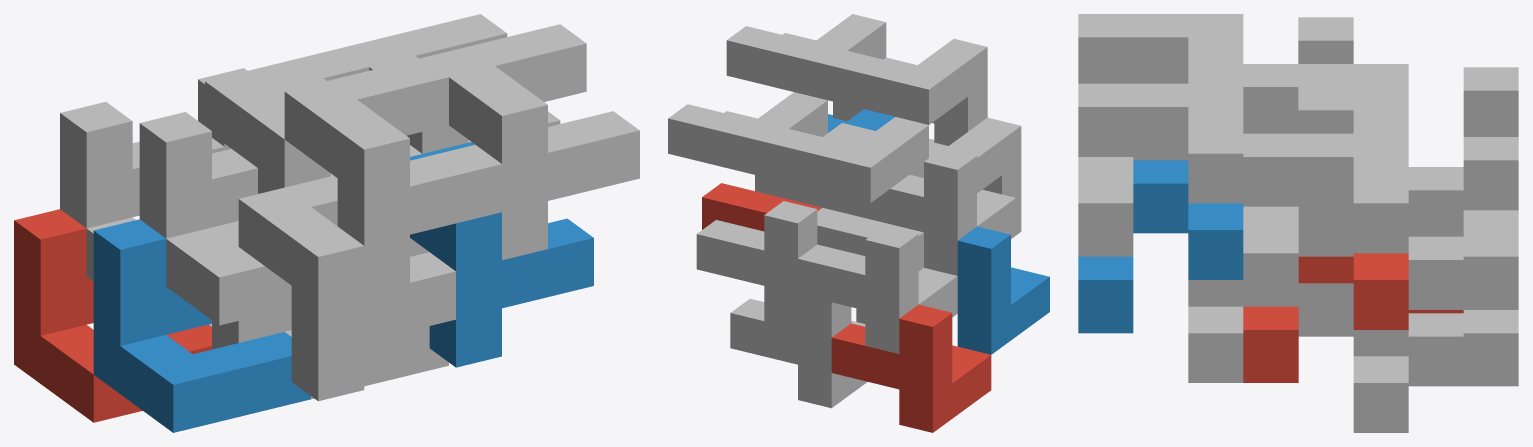
The model's file is tiling.obj.
The picture shows the model from 3 angles, left to right: view 1: azimuth 30°, elevation 25°; view 2: azimuth 150°, elevation 25°; view 3: azimuth 270°, elevation 25°; orthographic projection. The views are drawn at different scales.
Visible parts, largest first — view 1: copy_2_domain_4, copy_2_domain_8, copy_1_domain_2, copy_2_domain_2, copy_1_domain_4, copy_1_domain_1, copy_2_domain_6, copy_2_domain_3, copy_1_domain_3, copy_2_domain_7, copy_1_domain_6, copy_2_domain_1; view 2: copy_1_domain_1, copy_2_domain_4, copy_1_domain_3, copy_1_domain_4, copy_2_domain_3, copy_1_domain_2, copy_1_domain_7, copy_2_domain_8, copy_1_domain_5, copy_2_domain_7, copy_2_domain_2, copy_2_domain_5 (+3 smaller); view 3: copy_2_domain_7, copy_2_domain_8, copy_1_domain_7, copy_2_domain_6, copy_1_domain_5, copy_2_domain_4, copy_2_domain_5, copy_2_domain_3, copy_1_domain_3, copy_1_domain_6, copy_1_domain_8, copy_1_domain_4.
Part boxes in pixels (x1,y1,x2,y2): copy_2_domain_4: (284, 58, 501, 293); copy_2_domain_8: (422, 24, 639, 260); copy_1_domain_2: (93, 219, 310, 432); copy_2_domain_2: (238, 175, 455, 401); copy_1_domain_4: (139, 112, 291, 325); copy_1_domain_1: (14, 209, 211, 422); copy_2_domain_6: (410, 142, 593, 367); copy_2_domain_3: (205, 47, 421, 193); copy_1_domain_3: (60, 102, 224, 281); copy_2_domain_7: (343, 14, 560, 153); copy_1_domain_6: (285, 326, 448, 399); copy_2_domain_1: (212, 221, 291, 349); copy_1_domain_1: (831, 304, 991, 432); copy_2_domain_4: (828, 39, 987, 145); copy_1_domain_3: (798, 225, 957, 353); copy_1_domain_4: (856, 147, 1015, 275); copy_2_domain_3: (769, 117, 928, 202); copy_1_domain_2: (957, 226, 1049, 354); copy_1_domain_7: (696, 201, 817, 329); copy_2_domain_8: (726, 14, 886, 121); copy_1_domain_5: (730, 294, 867, 408); copy_2_domain_7: (668, 92, 827, 178); copy_2_domain_2: (929, 117, 1021, 238); copy_2_domain_5: (702, 183, 822, 231); copy_2_domain_7: (1243, 133, 1408, 306); copy_2_domain_8: (1078, 83, 1243, 256); copy_1_domain_7: (1353, 137, 1518, 356); copy_2_domain_6: (1078, 160, 1243, 333); copy_1_domain_5: (1353, 310, 1518, 432); copy_2_domain_4: (1078, 14, 1243, 83); copy_2_domain_5: (1243, 253, 1408, 382); copy_2_domain_3: (1243, 64, 1408, 133); copy_1_domain_3: (1408, 67, 1518, 236); copy_1_domain_6: (1188, 283, 1353, 382); copy_1_domain_8: (1188, 87, 1353, 306); copy_1_domain_4: (1298, 17, 1353, 63).
Bounding box in the file's own units: 9 × 7 × 8.
